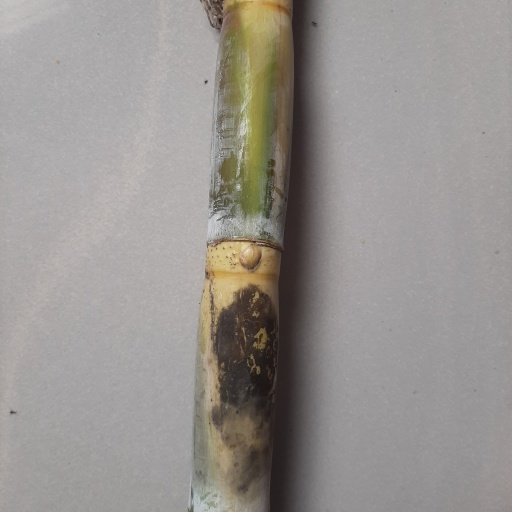Bud: (236, 242, 264, 270)
